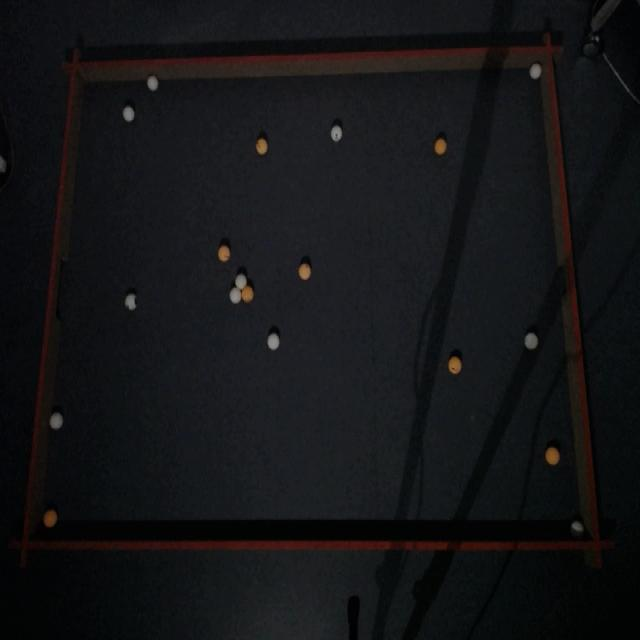orange_ball: (545, 446, 560, 466), (44, 509, 57, 527), (241, 284, 254, 302), (218, 245, 230, 262), (299, 264, 311, 280), (435, 138, 446, 155), (256, 140, 266, 154), (450, 360, 460, 373)
white_ball: (524, 332, 538, 350), (50, 412, 63, 430), (529, 62, 542, 80), (268, 333, 280, 350), (235, 272, 247, 289), (146, 75, 158, 91), (331, 125, 341, 141), (230, 287, 240, 303), (571, 520, 583, 533), (123, 108, 134, 120), (126, 299, 136, 311)
